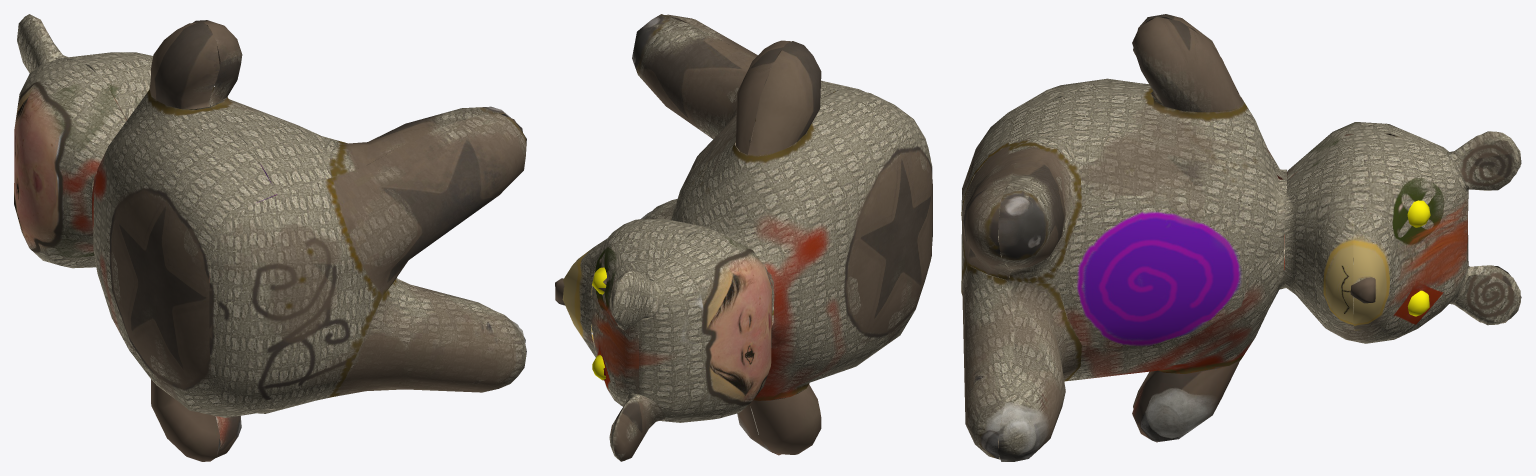
3 views of the same model, side by side, from view 1: azimuth 30°, elevation 25°; view 2: azimuth 150°, elevation 25°; view 3: azimuth 270°, elevation 25° (orthographic). The views are drawn at different scales.
Parts seen in each view (by area): view 1: TeddyBear, TeddyBear.001; view 2: TeddyBear, TeddyBear.001; view 3: TeddyBear, TeddyBear.001.
Part boxes in pixels (x1,y1,x2,y2): TeddyBear: (91,20,526,461); TeddyBear.001: (14,14,153,268); TeddyBear: (632,14,932,455); TeddyBear.001: (555,218,773,461); TeddyBear: (961,14,1286,461); TeddyBear.001: (1284,122,1521,343).
Bounding box in the file's own units: 62.84 × 96.47 × 80.37.
Materials: 2 (1 with a texture image).
